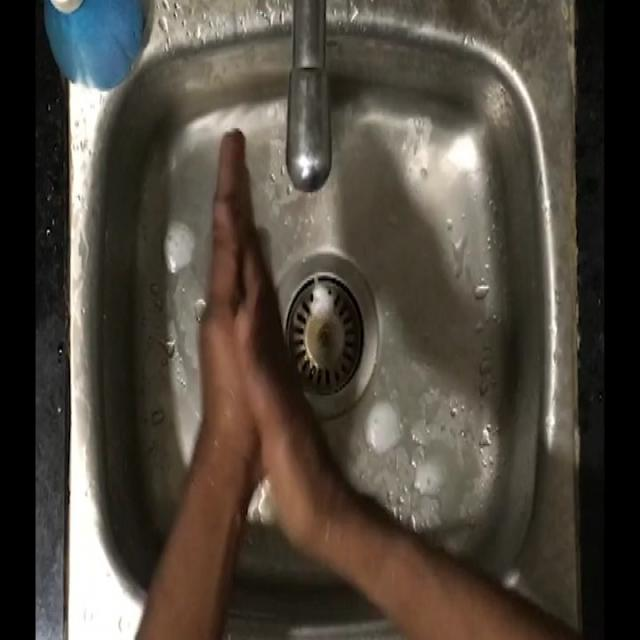step_1: (182, 110, 314, 445)
